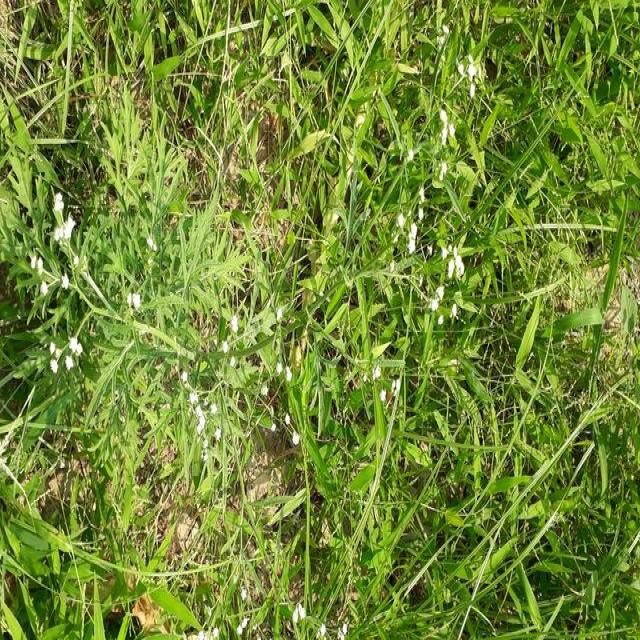weed: (290, 0, 640, 640), (5, 9, 281, 433)
